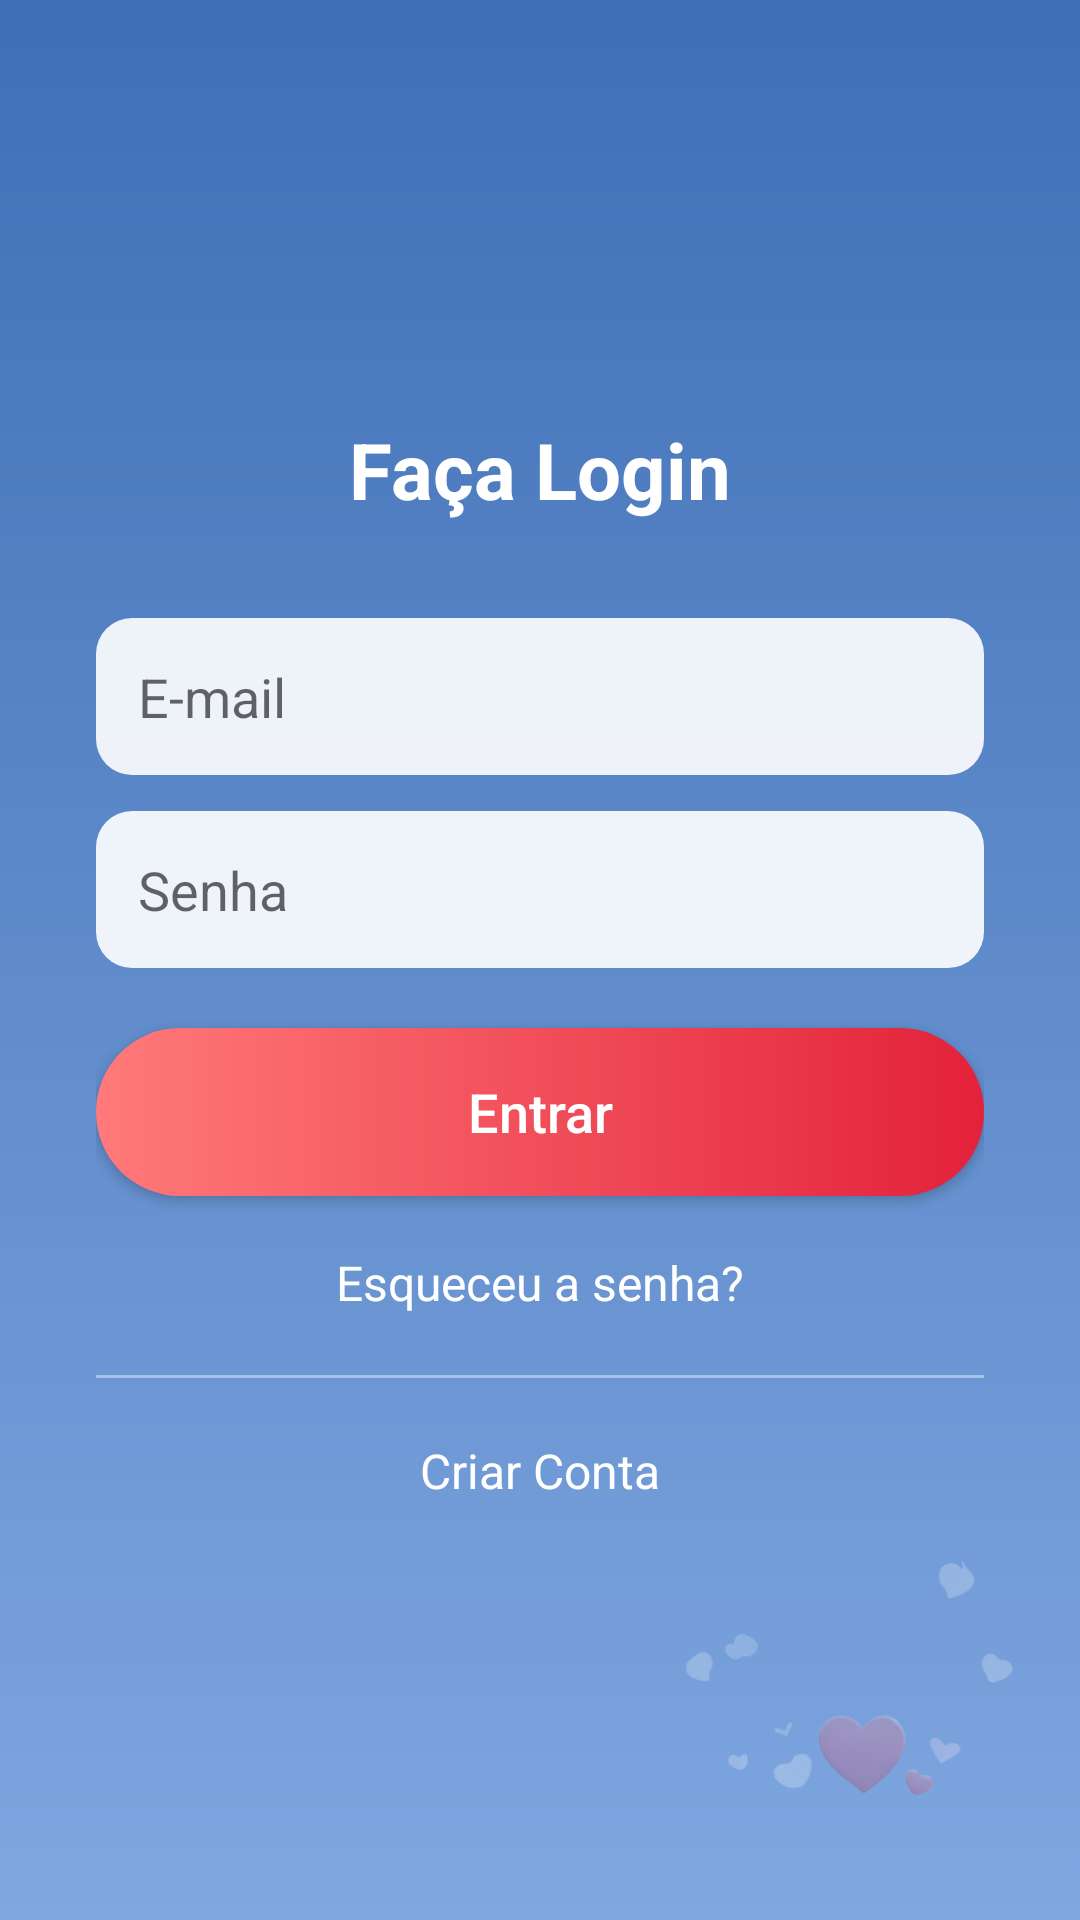

Named icons in this screenshot (1080x1920) and their bounding boxes, (x1, y1, x2, y2):
hearts: (687, 1565, 1012, 1795)
